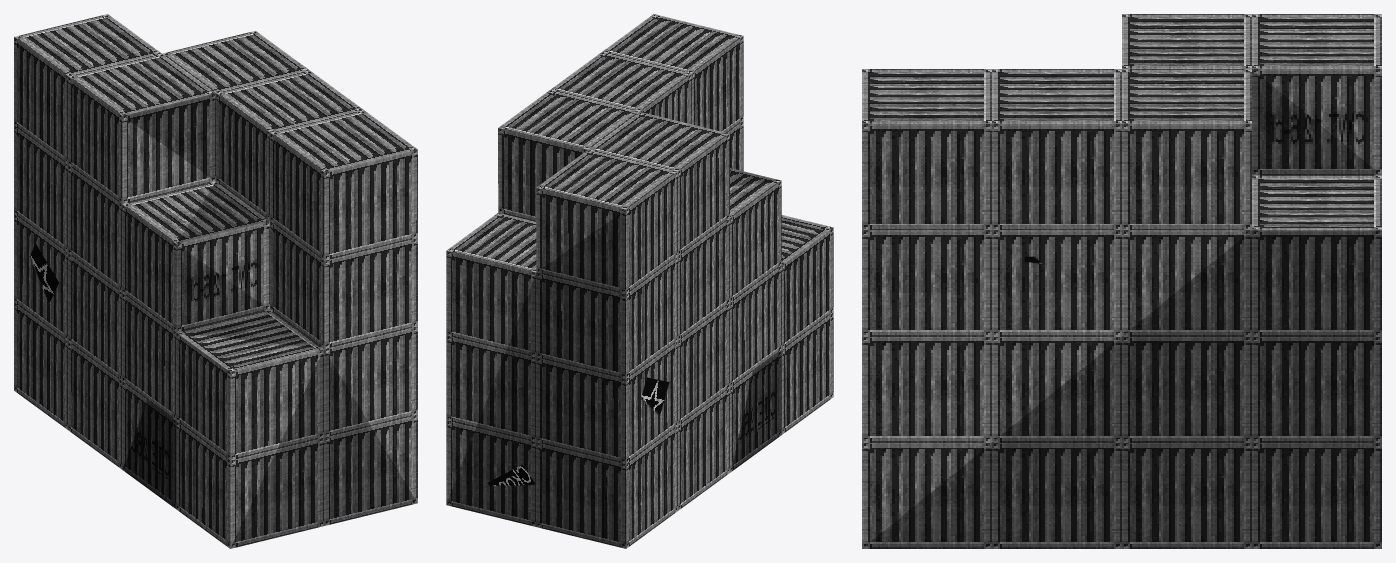
Rendered from depot_metal_crate_stack_5.glb.
The picture shows the model from 3 angles, left to right: view 1: azimuth 30°, elevation 25°; view 2: azimuth 150°, elevation 25°; view 3: azimuth 270°, elevation 25°; orthographic projection. The views are drawn at different scales.
Visible parts, largest first — view 1: Object; view 2: Object; view 3: Object.
Boxes of the visible parts, x1,y1,x2,y2 form: Object: (14,14,417,548); Object: (446,14,833,548); Object: (862,14,1381,548).
Bounding box in the file's own units: 2.9 × 5.23 × 5.8.
Materials: 8 (8 with a texture image).
